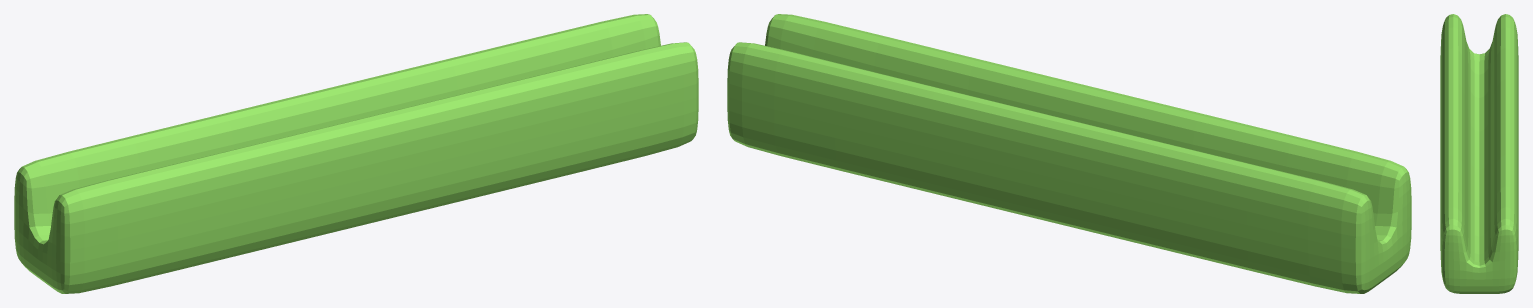
File: celery2.fbx
The picture shows the model from 3 angles, left to right: view 1: azimuth 30°, elevation 25°; view 2: azimuth 150°, elevation 25°; view 3: azimuth 270°, elevation 25°; orthographic projection. The views are drawn at different scales.
Parts seen in each view (by area): view 1: Cube; view 2: Cube; view 3: Cube.
Boxes of the visible parts, <box> form: Cube: <box>14,14,698,293</box>; Cube: <box>727,14,1411,293</box>; Cube: <box>1440,14,1518,293</box>.
Size of the model in its own units: 206 by 33.06 by 31.73.
